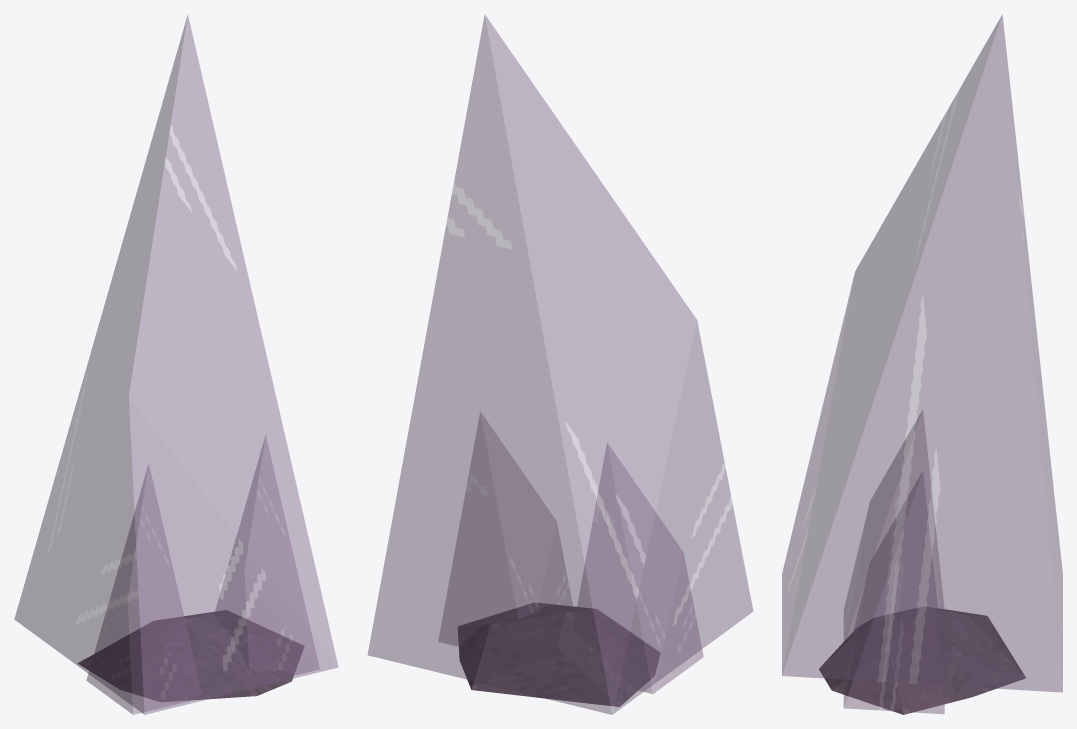
Rendered from f_empty_spike.glb.
3 renders of one model, left to right at view 1: azimuth 30°, elevation 25°; view 2: azimuth 150°, elevation 25°; view 3: azimuth 270°, elevation 25°, orthographic. The views are drawn at different scales.
Parts seen in each view (by area): view 1: block_jagged-crystal-spire (×3), block_crystal-footing; view 2: block_jagged-crystal-spire (×3), block_crystal-footing; view 3: block_jagged-crystal-spire (×3), block_crystal-footing.
Part boxes in pixels (box(x1,y1,x2,y2)): block_jagged-crystal-spire (×3): box(14, 15, 338, 714); block_crystal-footing: box(78, 610, 304, 701); block_jagged-crystal-spire (×3): box(367, 14, 753, 714); block_crystal-footing: box(458, 602, 660, 706); block_jagged-crystal-spire (×3): box(782, 14, 1062, 713); block_crystal-footing: box(819, 607, 1025, 714).
Size of the model in its own units: 0.656 by 1.71 by 0.656.
2 materials, 2 textured.
